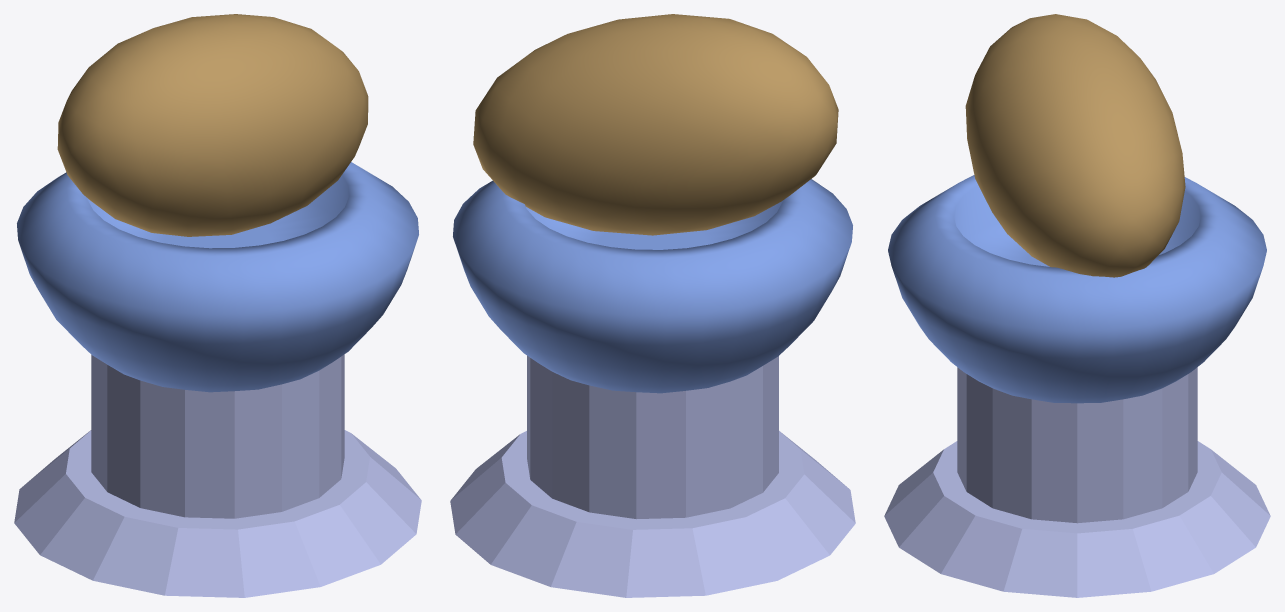
Rendered from PotatoTower.glb.
3 views of the same model, side by side, from view 1: azimuth 30°, elevation 25°; view 2: azimuth 150°, elevation 25°; view 3: azimuth 270°, elevation 25° (orthographic). The views are drawn at different scales.
Visible parts, largest first — view 1: Cube, Cube.001, Icosphere; view 2: Cube, Icosphere, Cube.001; view 3: Cube, Cube.001, Icosphere.
Boxes of the visible parts, bbox=[...] form: Cube: bbox=[14, 354, 421, 597]; Cube.001: bbox=[17, 162, 418, 392]; Icosphere: bbox=[57, 14, 368, 236]; Cube: bbox=[450, 355, 855, 597]; Icosphere: bbox=[473, 14, 838, 235]; Cube.001: bbox=[453, 179, 852, 393]; Cube: bbox=[884, 367, 1270, 597]; Cube.001: bbox=[888, 175, 1266, 403]; Icosphere: bbox=[965, 14, 1185, 277].
Size of the model in its own units: 1.24 by 1.64 by 1.24.
